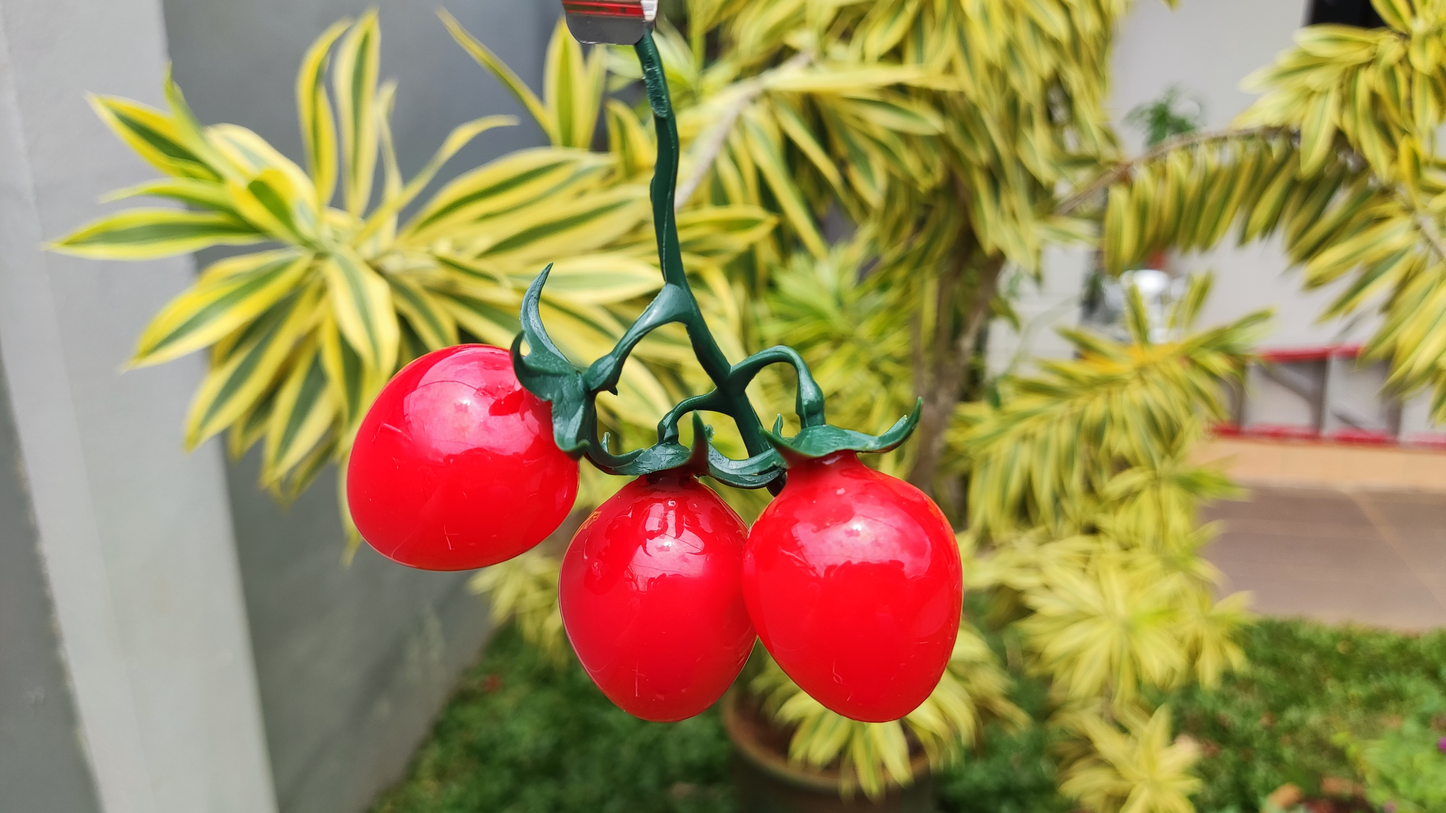peduncle: (634, 30, 688, 290)
strawberry: (743, 450, 964, 722), (346, 344, 577, 570), (559, 470, 757, 722)
